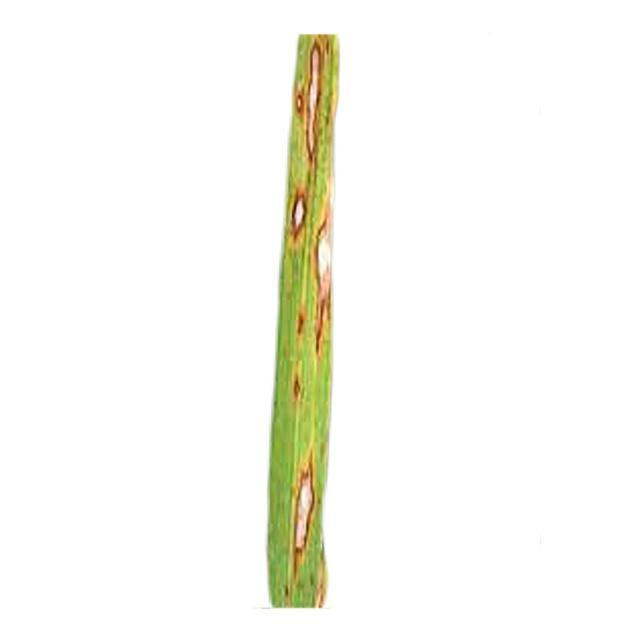Leaf_Blast: (285, 433, 336, 601), (289, 31, 343, 181), (299, 214, 351, 365), (280, 184, 311, 254)
